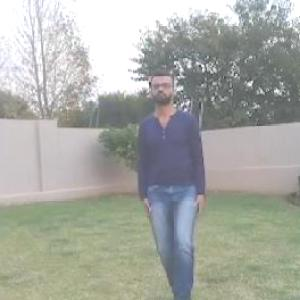follow: (136, 59, 212, 299)
